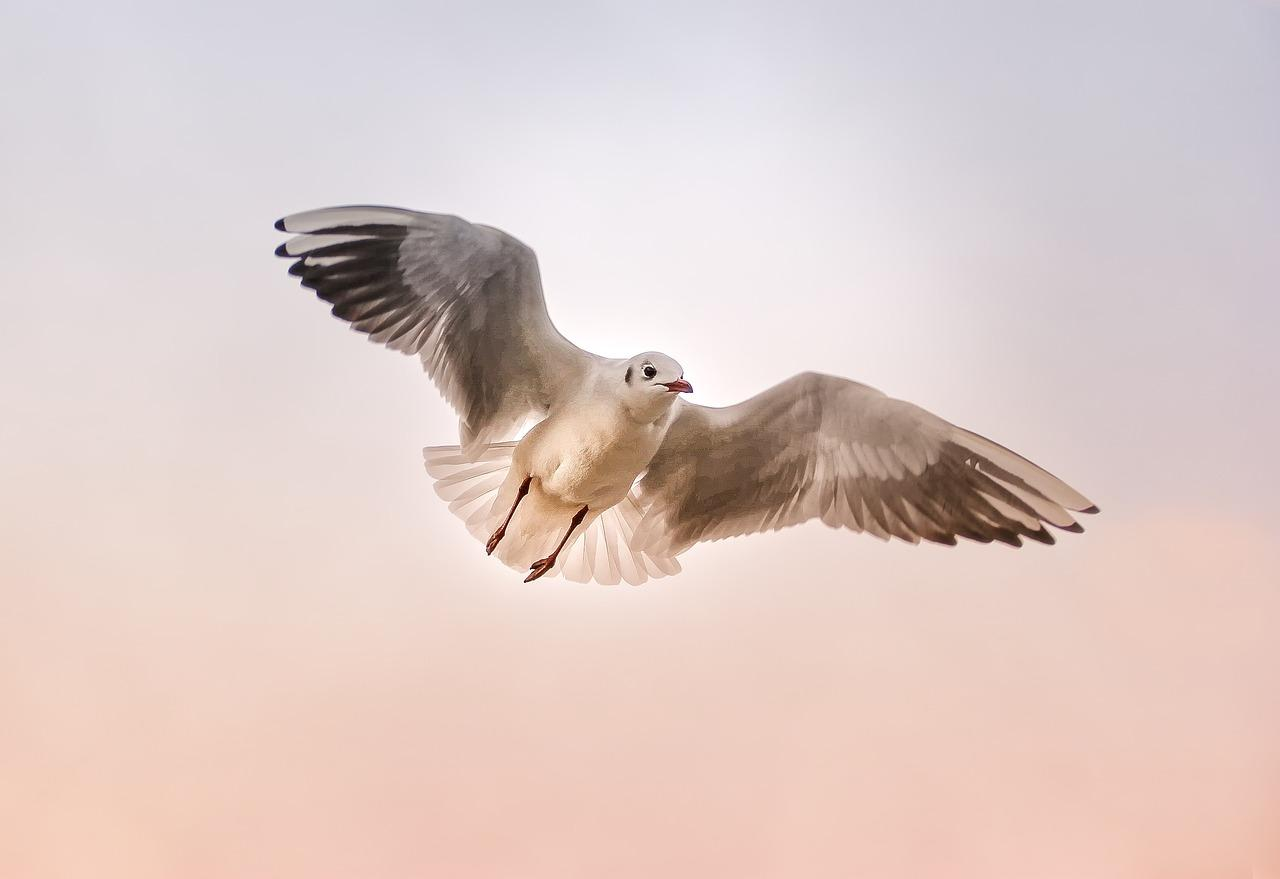bird: (277, 207, 1097, 583)
